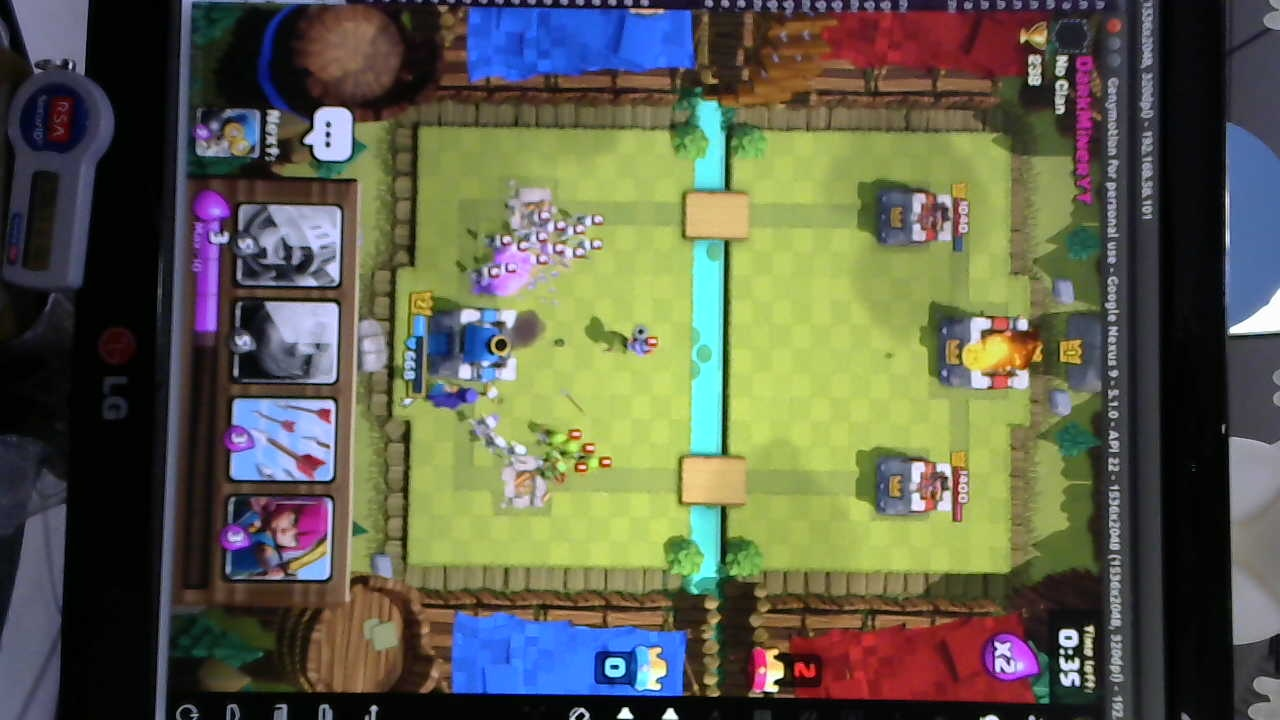darena: (498, 450, 549, 516)
earena: (872, 187, 956, 251), (876, 455, 955, 522)
eking: (935, 312, 1037, 392)
king: (422, 300, 521, 382)
musketeer: (622, 326, 660, 358)
skeleton: (471, 413, 525, 464)
skeletonarmy: (480, 203, 606, 286)
speargoblins: (542, 422, 611, 486)
witch: (424, 379, 501, 409)
